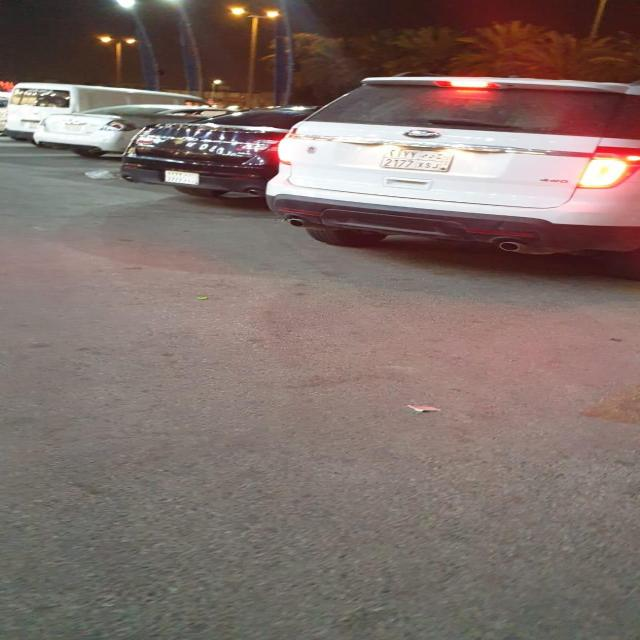license_plate: (378, 148, 457, 172), (163, 170, 201, 185), (64, 124, 82, 132), (30, 122, 38, 129)
